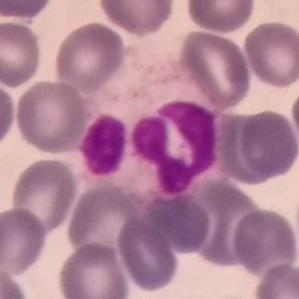Neutrophil: (80, 39, 227, 202)
RBC: (64, 181, 149, 260), (189, 184, 266, 270), (175, 28, 252, 110), (13, 78, 91, 156), (7, 155, 80, 235), (51, 20, 128, 92), (114, 213, 181, 294), (140, 189, 214, 256), (230, 206, 299, 277), (236, 107, 298, 182), (55, 240, 131, 299), (241, 18, 299, 90), (0, 205, 50, 277), (0, 18, 45, 89), (96, 0, 177, 37), (184, 0, 258, 35), (251, 260, 298, 299), (0, 76, 17, 153), (0, 0, 56, 21), (0, 265, 30, 299), (289, 80, 299, 151), (292, 177, 299, 266)
